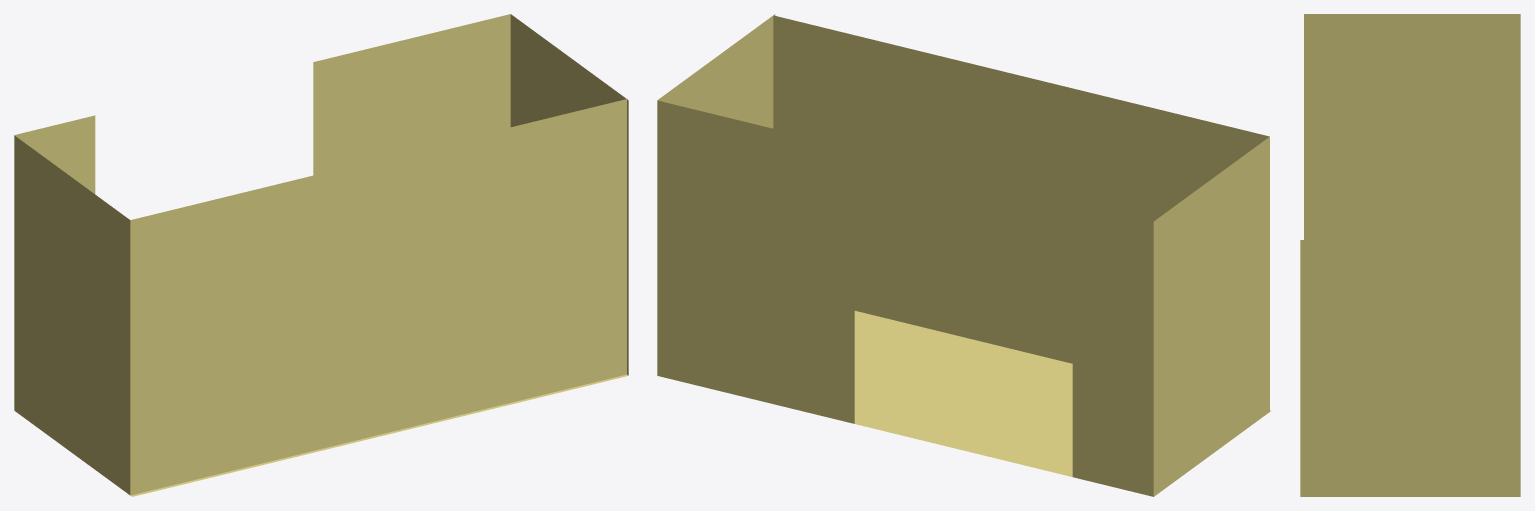
File: Walls.fbx
3 renders of one model, left to right at view 1: azimuth 30°, elevation 25°; view 2: azimuth 150°, elevation 25°; view 3: azimuth 270°, elevation 25°, orthographic. The views are drawn at different scales.
Visible parts, largest first — view 1: Plane; view 2: Plane; view 3: Plane.
Part boxes in pixels (left/top/right/bottom): Plane: left=14, top=14, right=628, bottom=496; Plane: left=657, top=14, right=1271, bottom=496; Plane: left=1300, top=14, right=1520, bottom=496.
Bounding box in the file's own units: 755 × 400 × 311.
